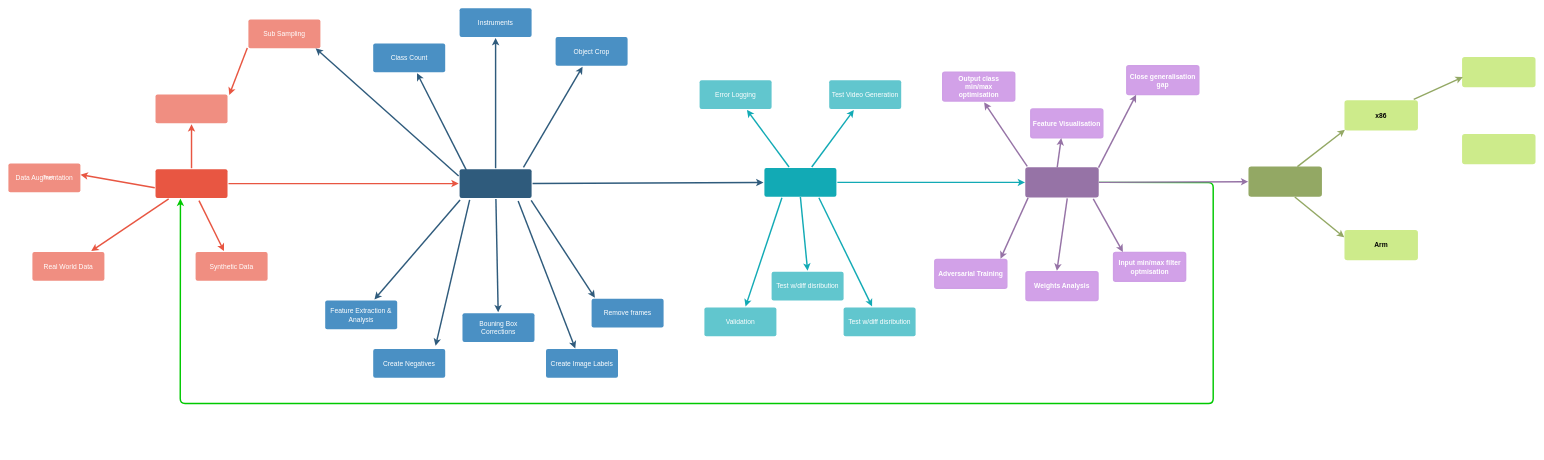
This 1544x460 diagram has some shape labels left out. Here are the shapes that lost their labels. From the top down, the centre of each, then its label:
At pixel 1498 72: "Linux x86_64".
At pixel 191 108: "Data Collection Policies".
At pixel 1498 149: "Windows".
At pixel 191 183: "Data Collection".
At pixel 495 183: "Pre-Process".
At pixel 800 182: "Training".
At pixel 1061 182: "Debug".
At pixel 1285 181: "Deploy".
